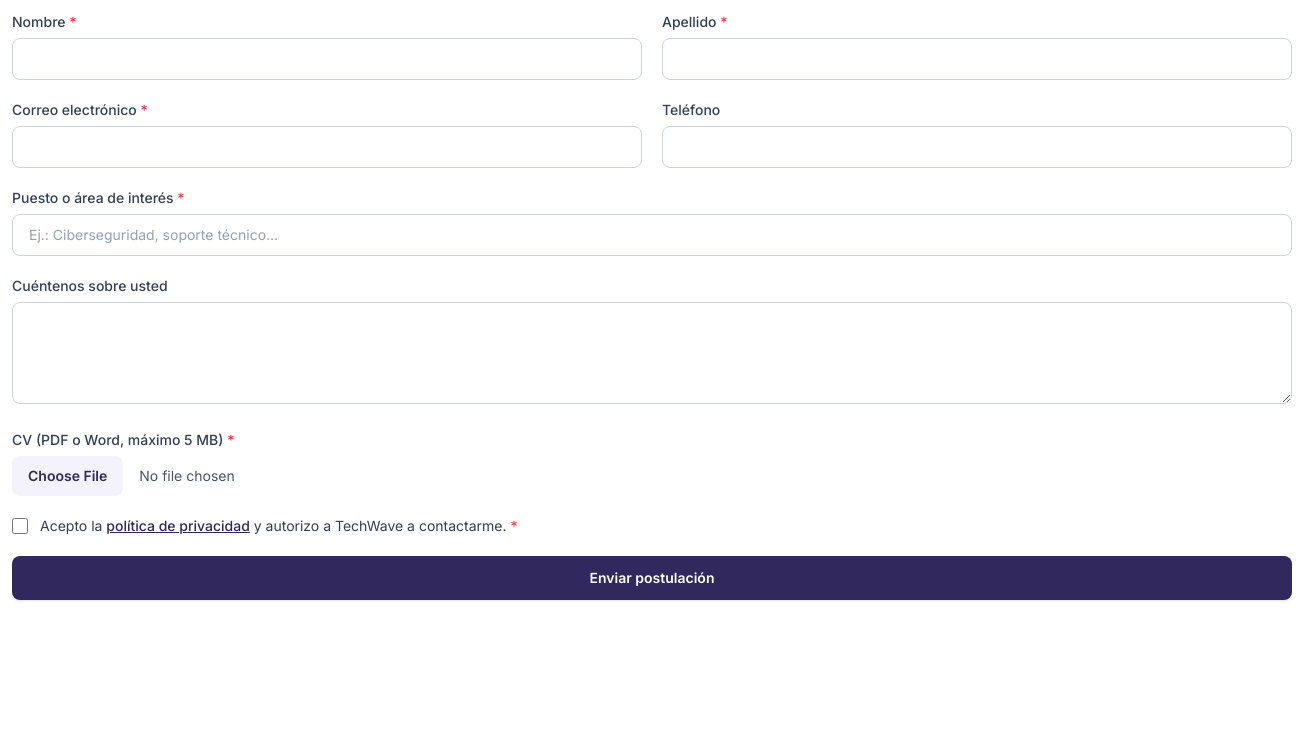
CareersForm › muestra todos los errores al enviar vacío
Step 1. Click the button "Enviar postulación" → [652, 578], box [12, 556, 1292, 600]
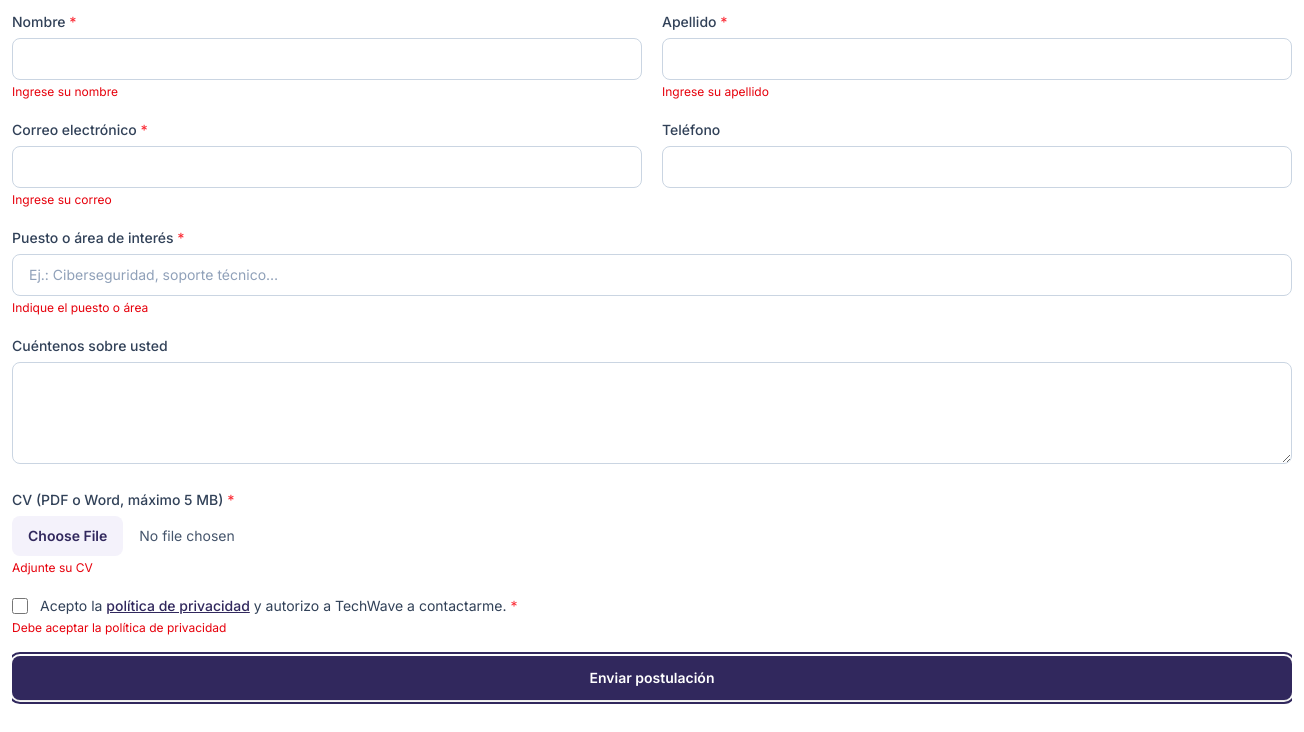
Now the text "Ingrese su nombre" is shown, box [12, 84, 118, 99]
Now the text "Ingrese su apellido" is shown, box [662, 84, 769, 99]
Now the text "Ingrese su correo" is shown, box [12, 192, 112, 207]
